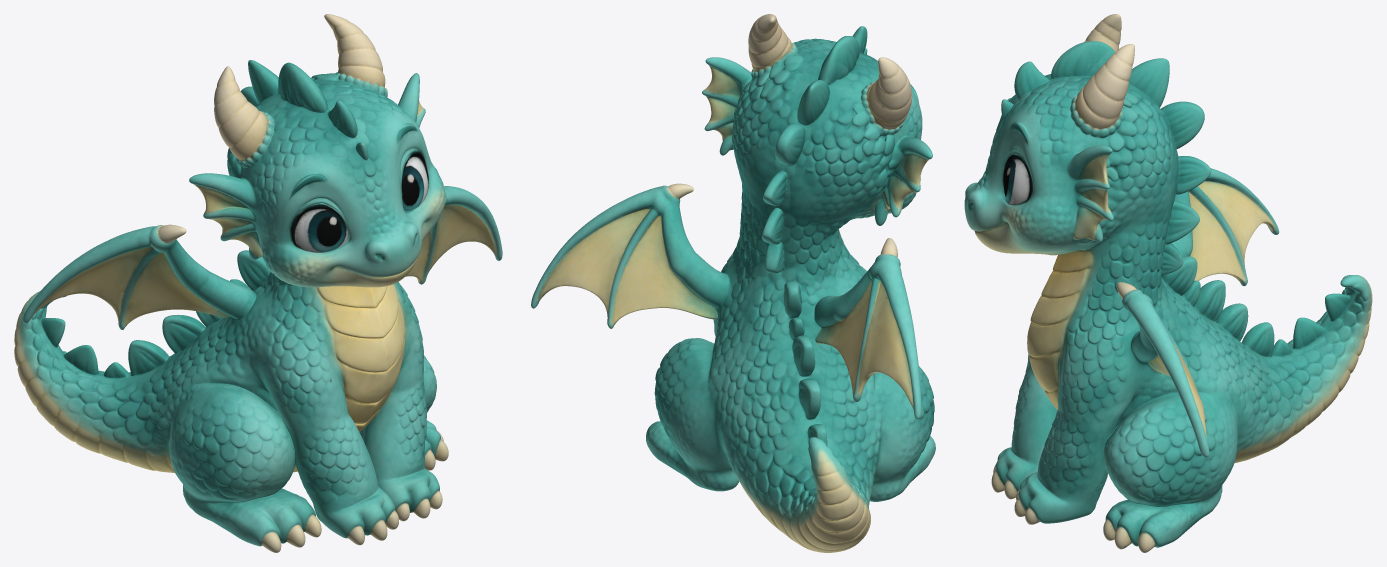
File: preview.glb
3 renders of one model, left to right at view 1: azimuth 30°, elevation 25°; view 2: azimuth 150°, elevation 25°; view 3: azimuth 270°, elevation 25°, orthographic. The views are drawn at different scales.
Visible parts, largest first — view 1: cartoon-dragon; view 2: cartoon-dragon; view 3: cartoon-dragon.
Boxes of the visible parts, bbox=[...] form: cartoon-dragon: bbox=[14, 14, 502, 552]; cartoon-dragon: bbox=[531, 14, 935, 552]; cartoon-dragon: bbox=[964, 14, 1372, 552].
Bounding box in the file's own units: 0.8825 × 0.8998 × 0.7315.
Materials: 1 (1 with a texture image).
